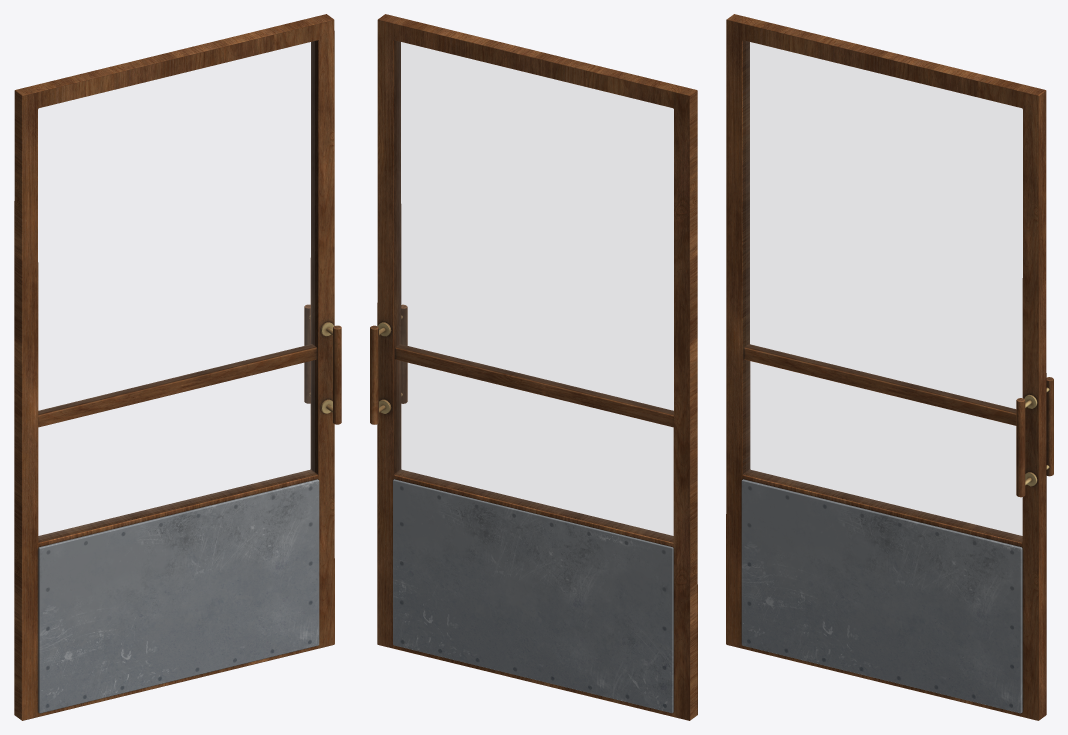
Rendered from Door_01.FBX.
3 renders of one model, left to right at view 1: azimuth 30°, elevation 25°; view 2: azimuth 150°, elevation 25°; view 3: azimuth 330°, elevation 25°, orthographic.
Visible parts, largest first — view 1: Door_01; view 2: Door_01; view 3: Door_01.
Part boxes in pixels (x1,y1,x2,y2): Door_01: (14, 14, 341, 720); Door_01: (370, 14, 697, 720); Door_01: (726, 14, 1053, 720).
Size of the model in its own units: 114 by 218 by 20.88.
